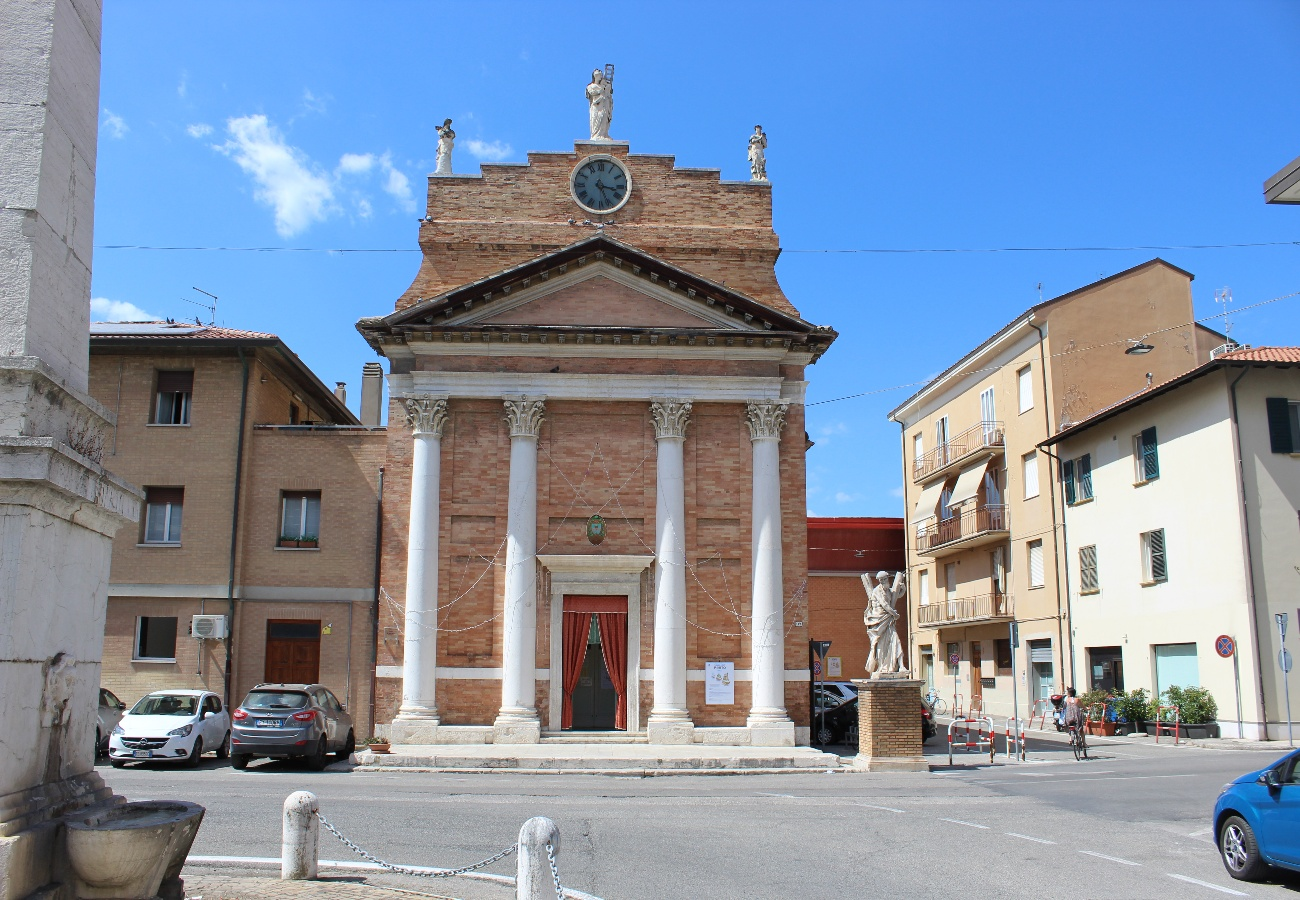Parrocchia Santa Maria: (357, 60, 841, 769)
